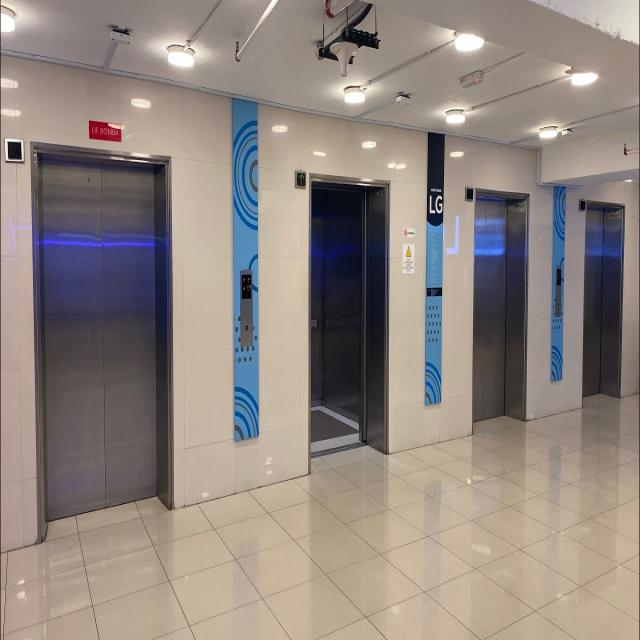elevator: (25, 114, 183, 546), (236, 135, 398, 477), (463, 179, 536, 440), (576, 191, 631, 411)
